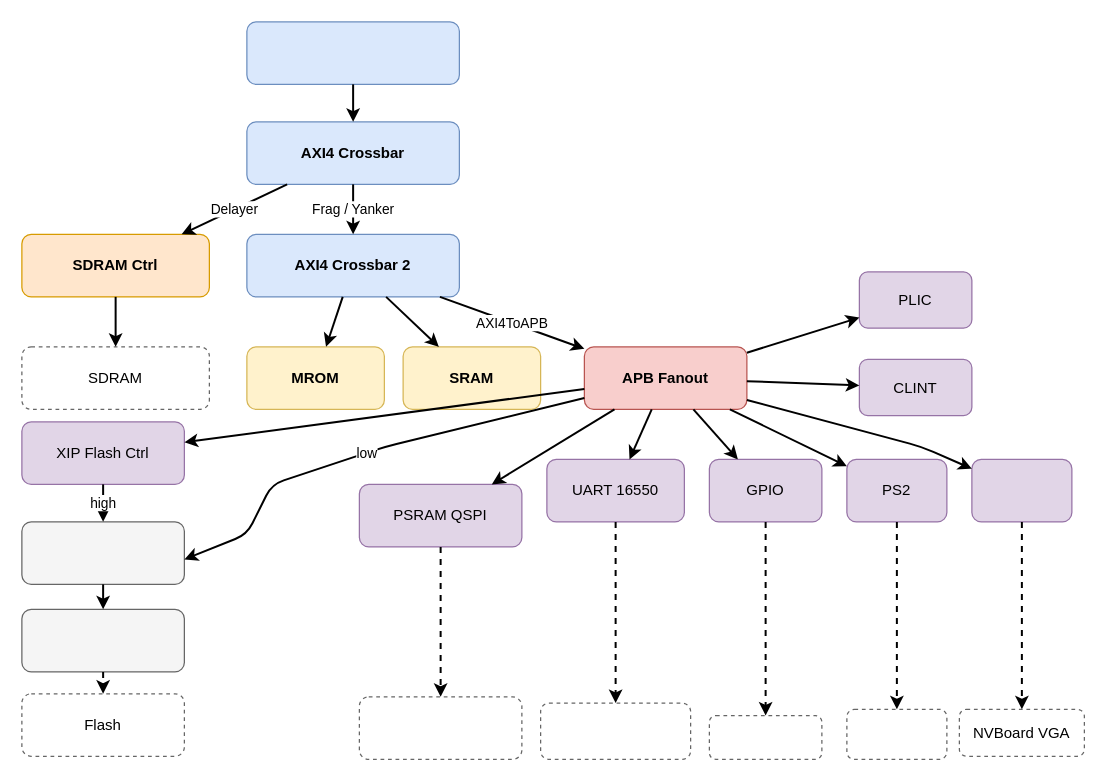
The diagram is 1106 pixels wide and 781 high, and some of its shapes have lost their labels. The centre of each missing label's shape, as x and y in pixels:
CPU (AXI4 Master): [352,52]
NVBoard KB: [896,733]
NVBoard LEDs: [765,736]
NVBoard tty: [615,730]
PSRAM: [440,727]
SPI Arbiter: [102,552]
SPI Ctrl: [102,640]
VGA: [1021,490]
